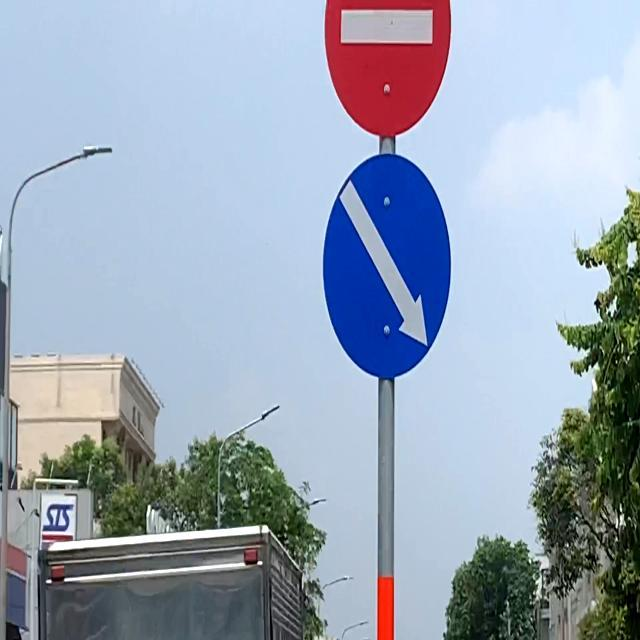R-302a: (321, 156, 450, 377)
